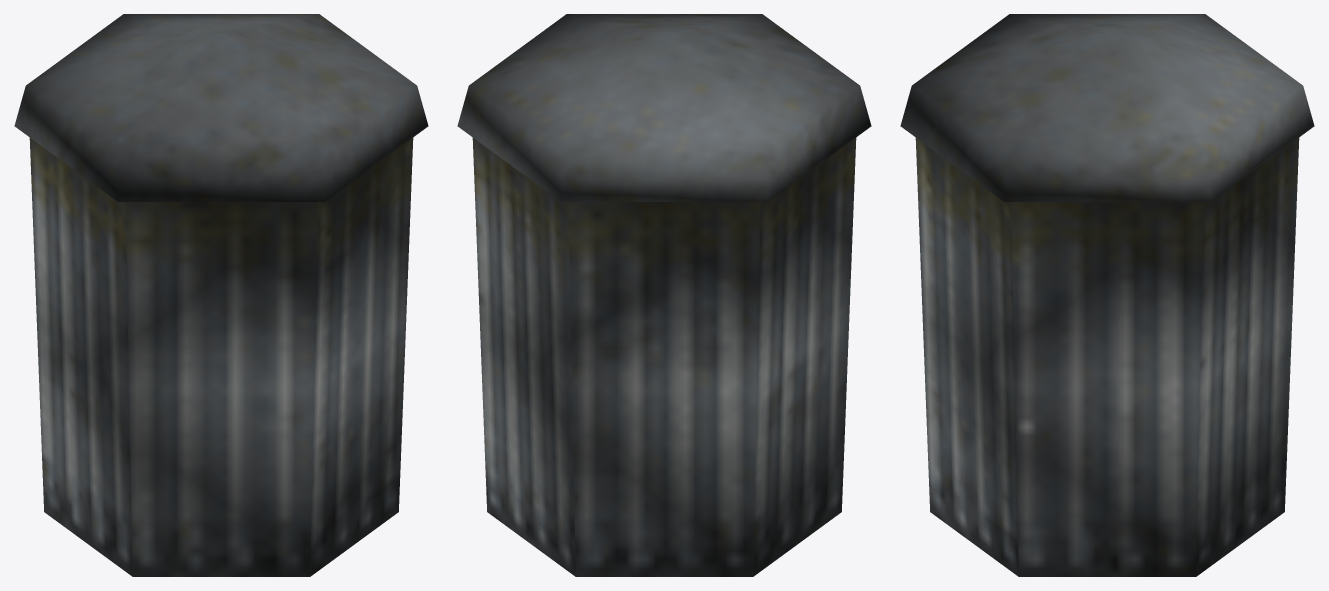
File: trashcan0.fbx
The picture shows the model from 3 angles, left to right: view 1: azimuth 30°, elevation 25°; view 2: azimuth 150°, elevation 25°; view 3: azimuth 270°, elevation 25°; orthographic projection.
Parts seen in each view (by area): view 1: trashcan0; view 2: trashcan0; view 3: trashcan0.
Part boxes in pixels (x1,y1,x2,y2): trashcan0: (14,14,428,576); trashcan0: (457,14,871,576); trashcan0: (900,14,1314,576).
Size of the model in its own units: 69.13 by 79.82 by 102.
Materials: 1 (1 with a texture image).
